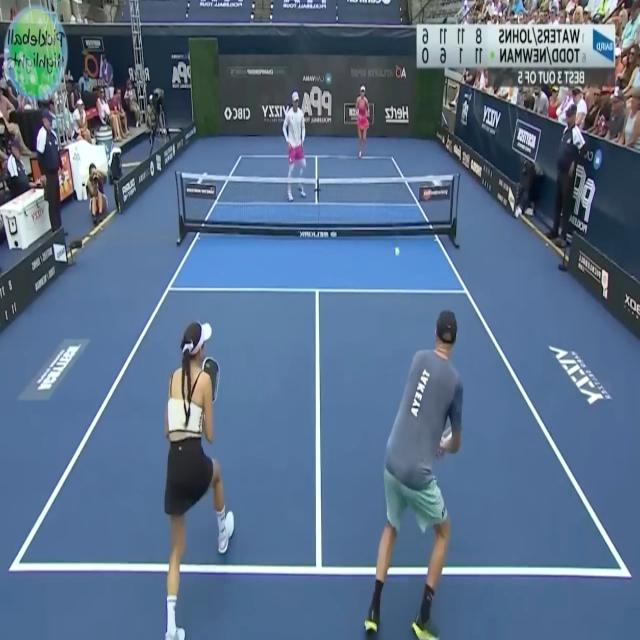Pickleball: (394, 244, 401, 258)
